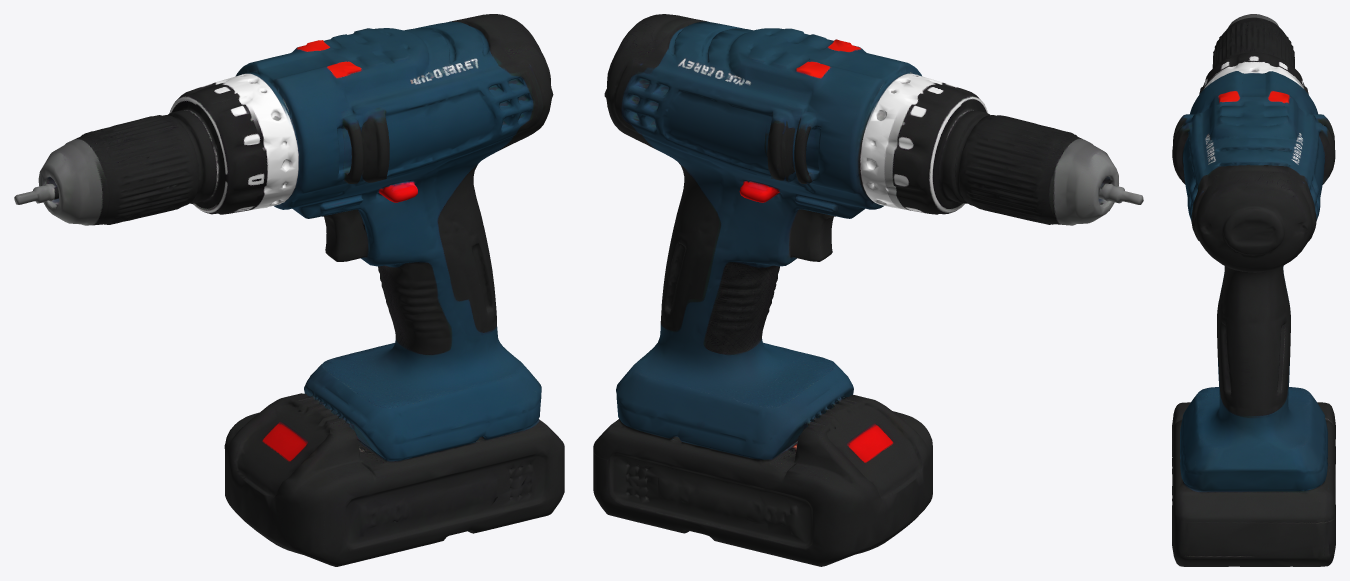
Rendered from cousin_7.glb.
3 views of the same model, side by side, from view 1: azimuth 30°, elevation 25°; view 2: azimuth 150°, elevation 25°; view 3: azimuth 270°, elevation 25° (orthographic). The views are drawn at different scales.
Bounding box in the file's own units: 1.91 × 1.66 × 0.6187.
1 material, 1 textured.
